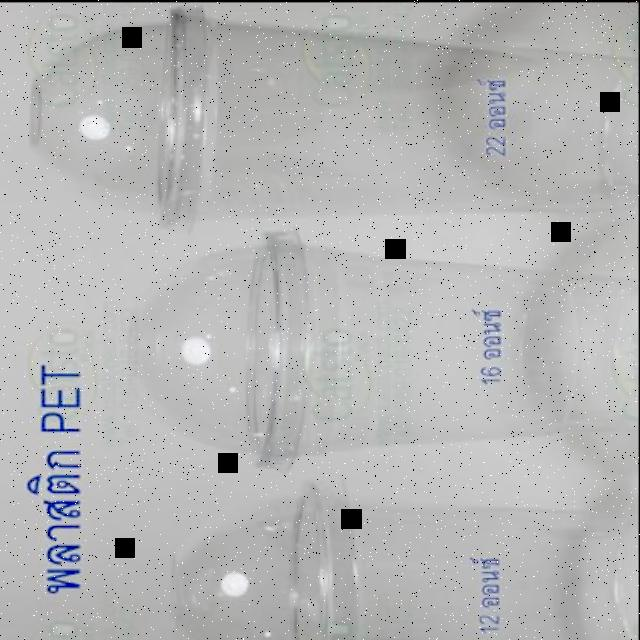plastic_box: (27, 2, 639, 230), (123, 222, 639, 472), (172, 476, 638, 640)
